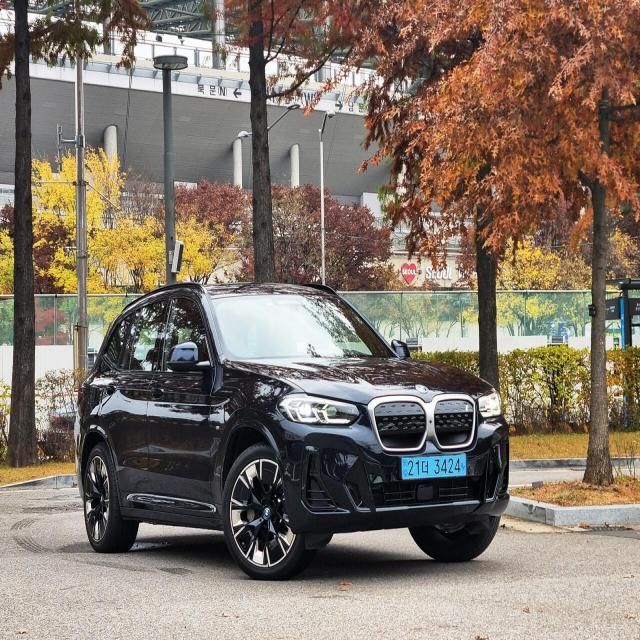EV_plate: (398, 451, 471, 480)
car: (68, 276, 511, 576)
